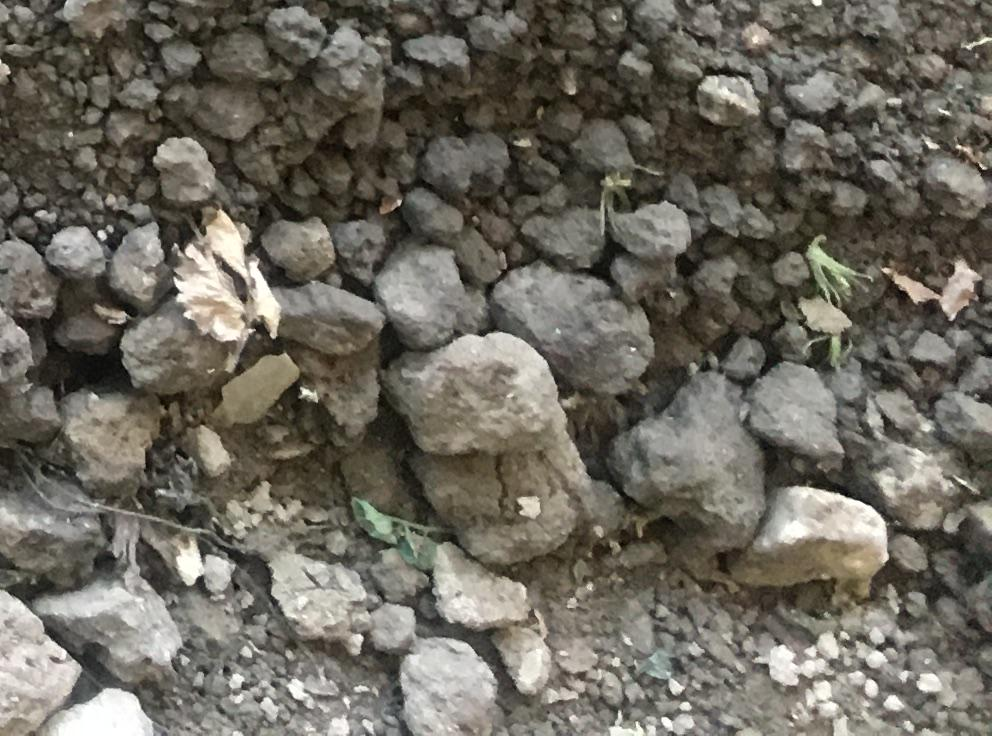block: (610, 372, 765, 548), (374, 335, 562, 453), (494, 258, 648, 398), (744, 485, 889, 592), (35, 580, 179, 687), (374, 230, 491, 350), (53, 380, 163, 502), (121, 296, 240, 395), (749, 353, 843, 466), (399, 633, 499, 736)
